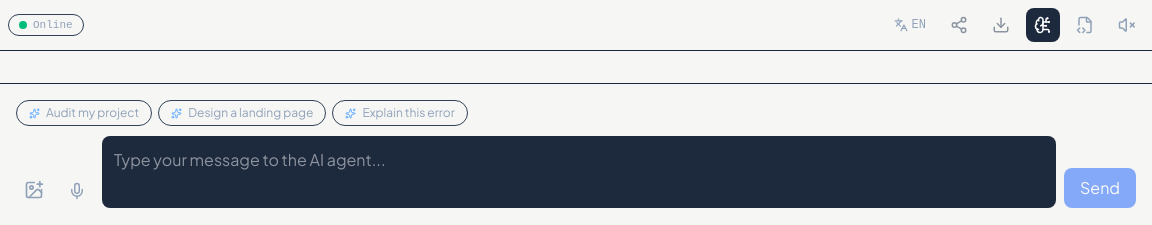
Test: ChatInterface Tier-S wiring contract (M10) › renders quick action chips and pre-fills composer on click
The width and height of the screenshot is (1152, 225).
Expected: the element with test id "chat-chips" is shown, top-left (16, 100), bottom-right (468, 126)
Click the button "Audit my project". click: [84, 113]
box: top-left (16, 100), bottom-right (152, 126)
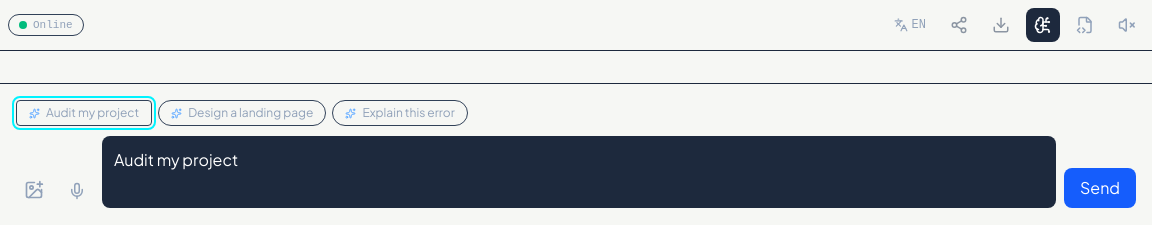
Expected: the text box with placeholder "Type your message to the AI agent..." holds "Audit my project", top-left (102, 136), bottom-right (1056, 208)
